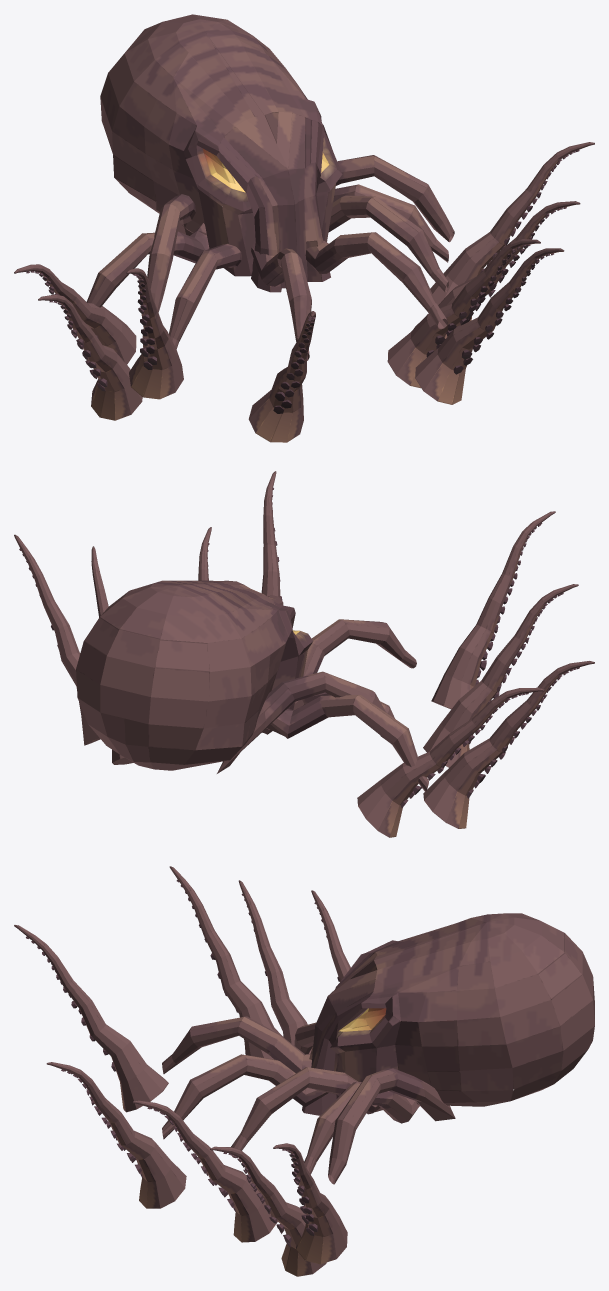
Rendered from kraken.fbx.
The picture shows the model from 3 angles, top to bottom: view 1: azimuth 30°, elevation 25°; view 2: azimuth 150°, elevation 25°; view 3: azimuth 270°, elevation 25°; orthographic projection. The views are drawn at different scales.
Parts seen in each view (by area): view 1: pSphere2, pCylinder7_1, pCylinder2_2, pCylinder3_3, pCylinder5_5, pCylinder3_5, pCylinder2_3, pCylinder1, pCylinder4_1, pCylinder5_1, pCylinder2_1, pCylinder3_1 (+4 smaller); view 2: pSphere2, pCylinder3_5, pCylinder4_7, pCylinder1, pCylinder2_1, pCylinder2_3, pCylinder3_1, pCylinder7_1, pCylinder5_5, pCylinder2_2, pCylinder4_4; view 3: pSphere2, pCylinder7_1, pCylinder1, pCylinder5_1, pCylinder2_2, pCylinder3_3, pCylinder5_5, pCylinder2_3, pCylinder4_1, pCylinder4_4, pCylinder3_5, pCylinder6_1 (+1 smaller).
Part boxes in pixels (x1,y1,x2,y2): pSphere2: (100,14,342,292); pCylinder7_1: (251,232,447,360); pCylinder2_2: (415,248,564,404); pCylinder3_3: (387,239,540,388); pCylinder5_5: (430,142,594,321); pCylinder3_5: (38,294,142,420); pCylinder2_3: (126,268,183,399); pCylinder1: (248,311,315,442); pCylinder4_1: (328,195,448,292); pCylinder5_1: (335,155,454,242); pCylinder2_1: (86,223,209,307); pCylinder3_1: (147,194,195,312); pSphere2: (76,580,313,770); pCylinder3_5: (423,661,594,828); pCylinder4_7: (357,687,544,837); pCylinder1: (431,511,555,709); pCylinder2_1: (267,695,428,792); pCylinder2_3: (423,584,578,767); pCylinder3_1: (217,671,385,773); pCylinder7_1: (268,595,416,676); pCylinder5_5: (14,534,100,745); pCylinder2_2: (261,471,280,598); pCylinder4_4: (91,546,133,764); pSphere2: (302,913,594,1115); pCylinder7_1: (162,1016,328,1139); pCylinder1: (14,925,168,1112); pCylinder5_1: (328,1068,455,1184); pCylinder2_2: (46,1062,186,1208); pCylinder3_3: (132,1100,277,1242); pCylinder5_5: (273,1143,347,1264); pCylinder2_3: (169,866,283,1059); pCylinder4_1: (231,1067,380,1158); pCylinder4_4: (210,1146,326,1276); pCylinder3_5: (238,880,312,1053); pCylinder6_1: (304,1081,419,1174).
Bounding box in the file's own units: 1543 × 753 × 1400.
4 materials, 4 textured.
